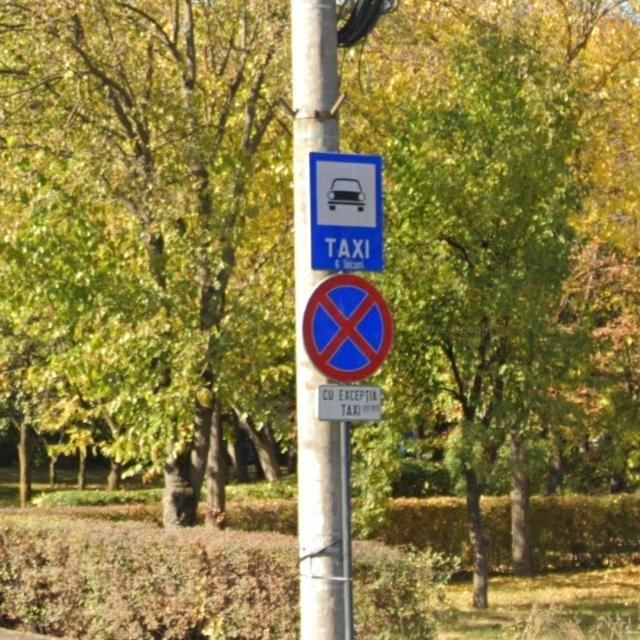forb_waiting: (300, 272, 390, 382)
